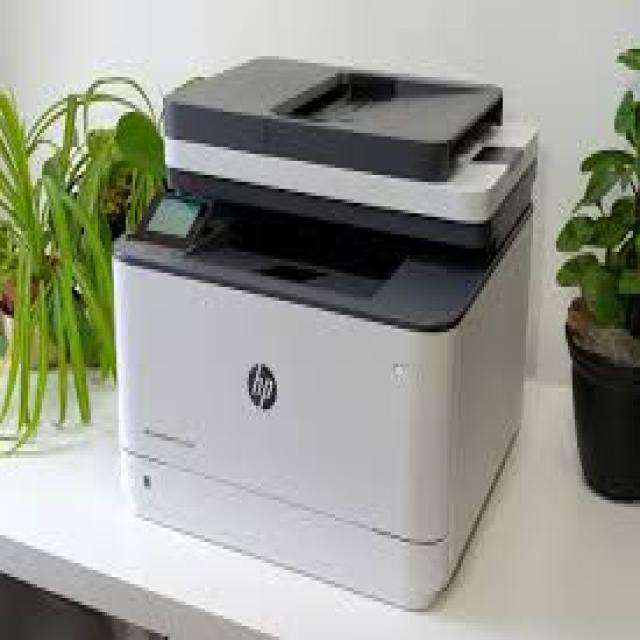printer: (110, 52, 538, 612)
